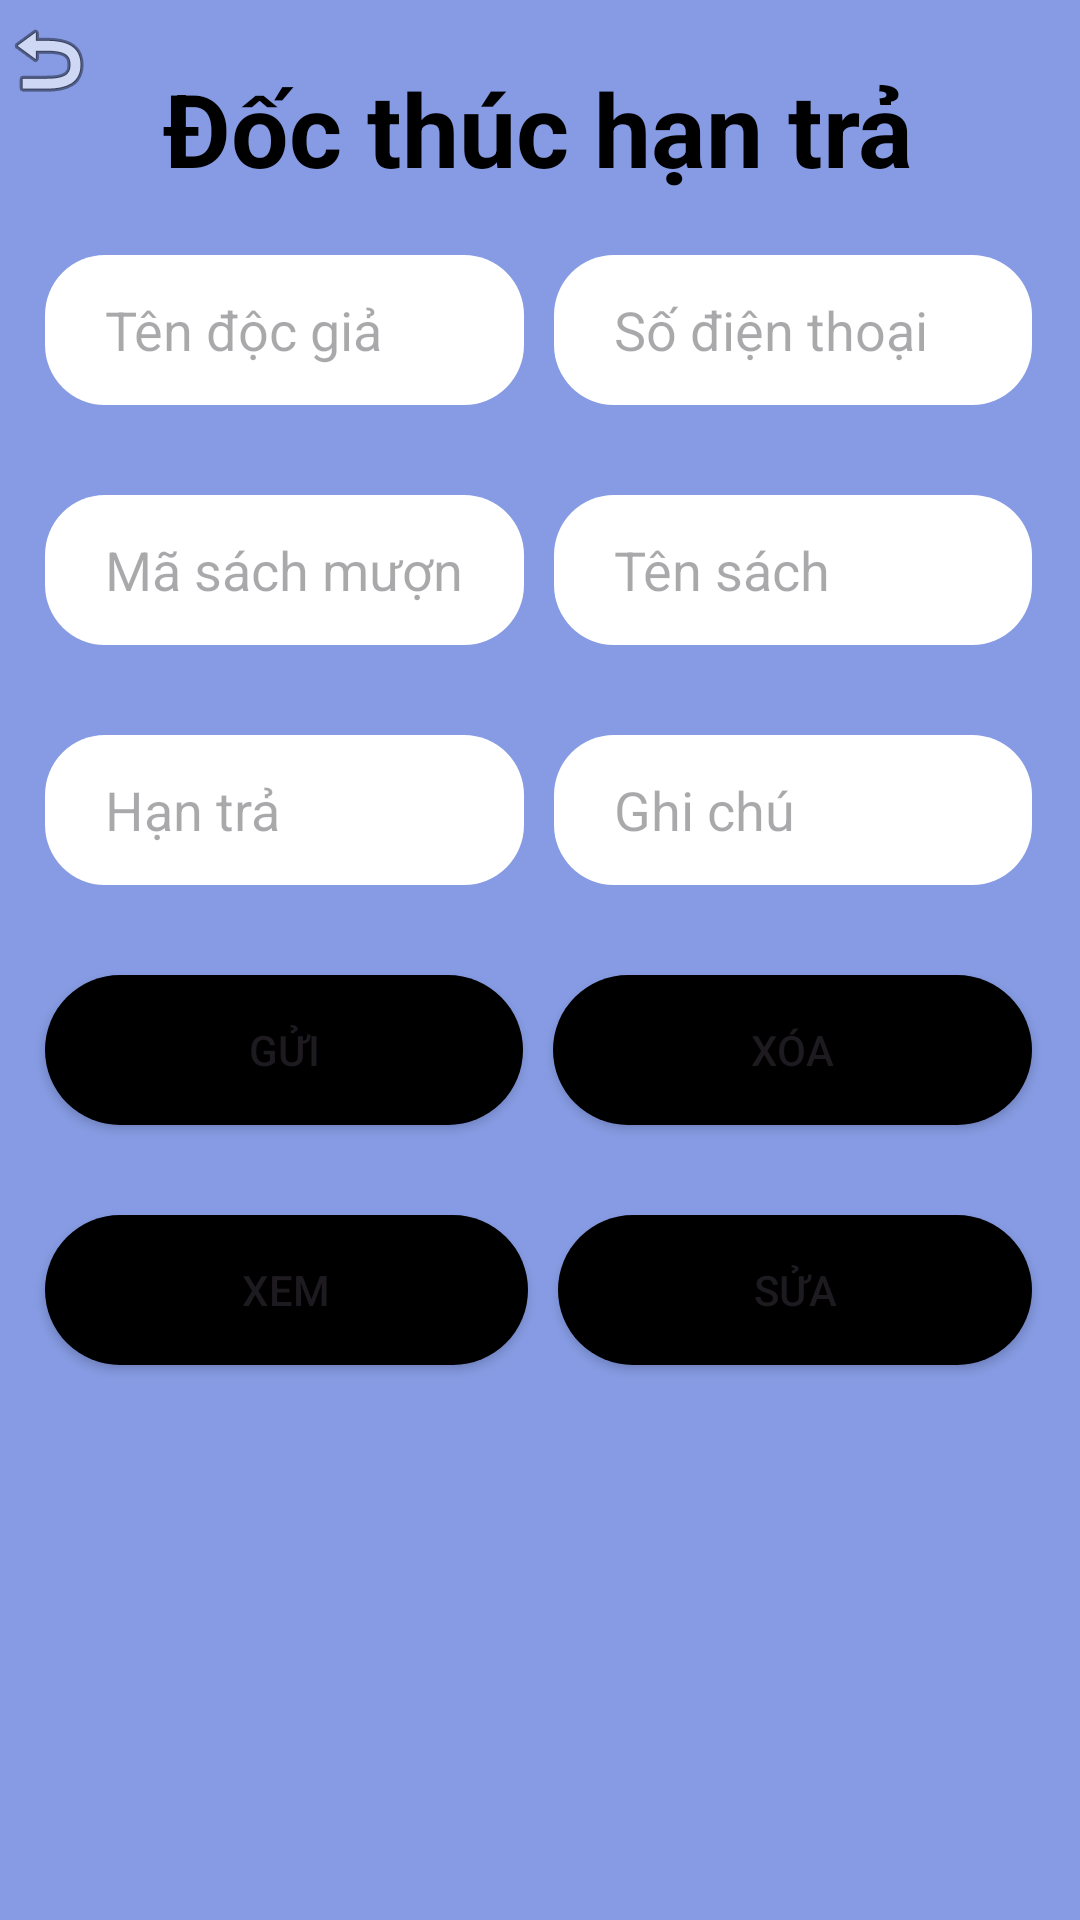

Where icons sit on this 1080 × 1920 app screen, as rect(x1, y1, x2, y2):
revert: rect(15, 29, 84, 92)
